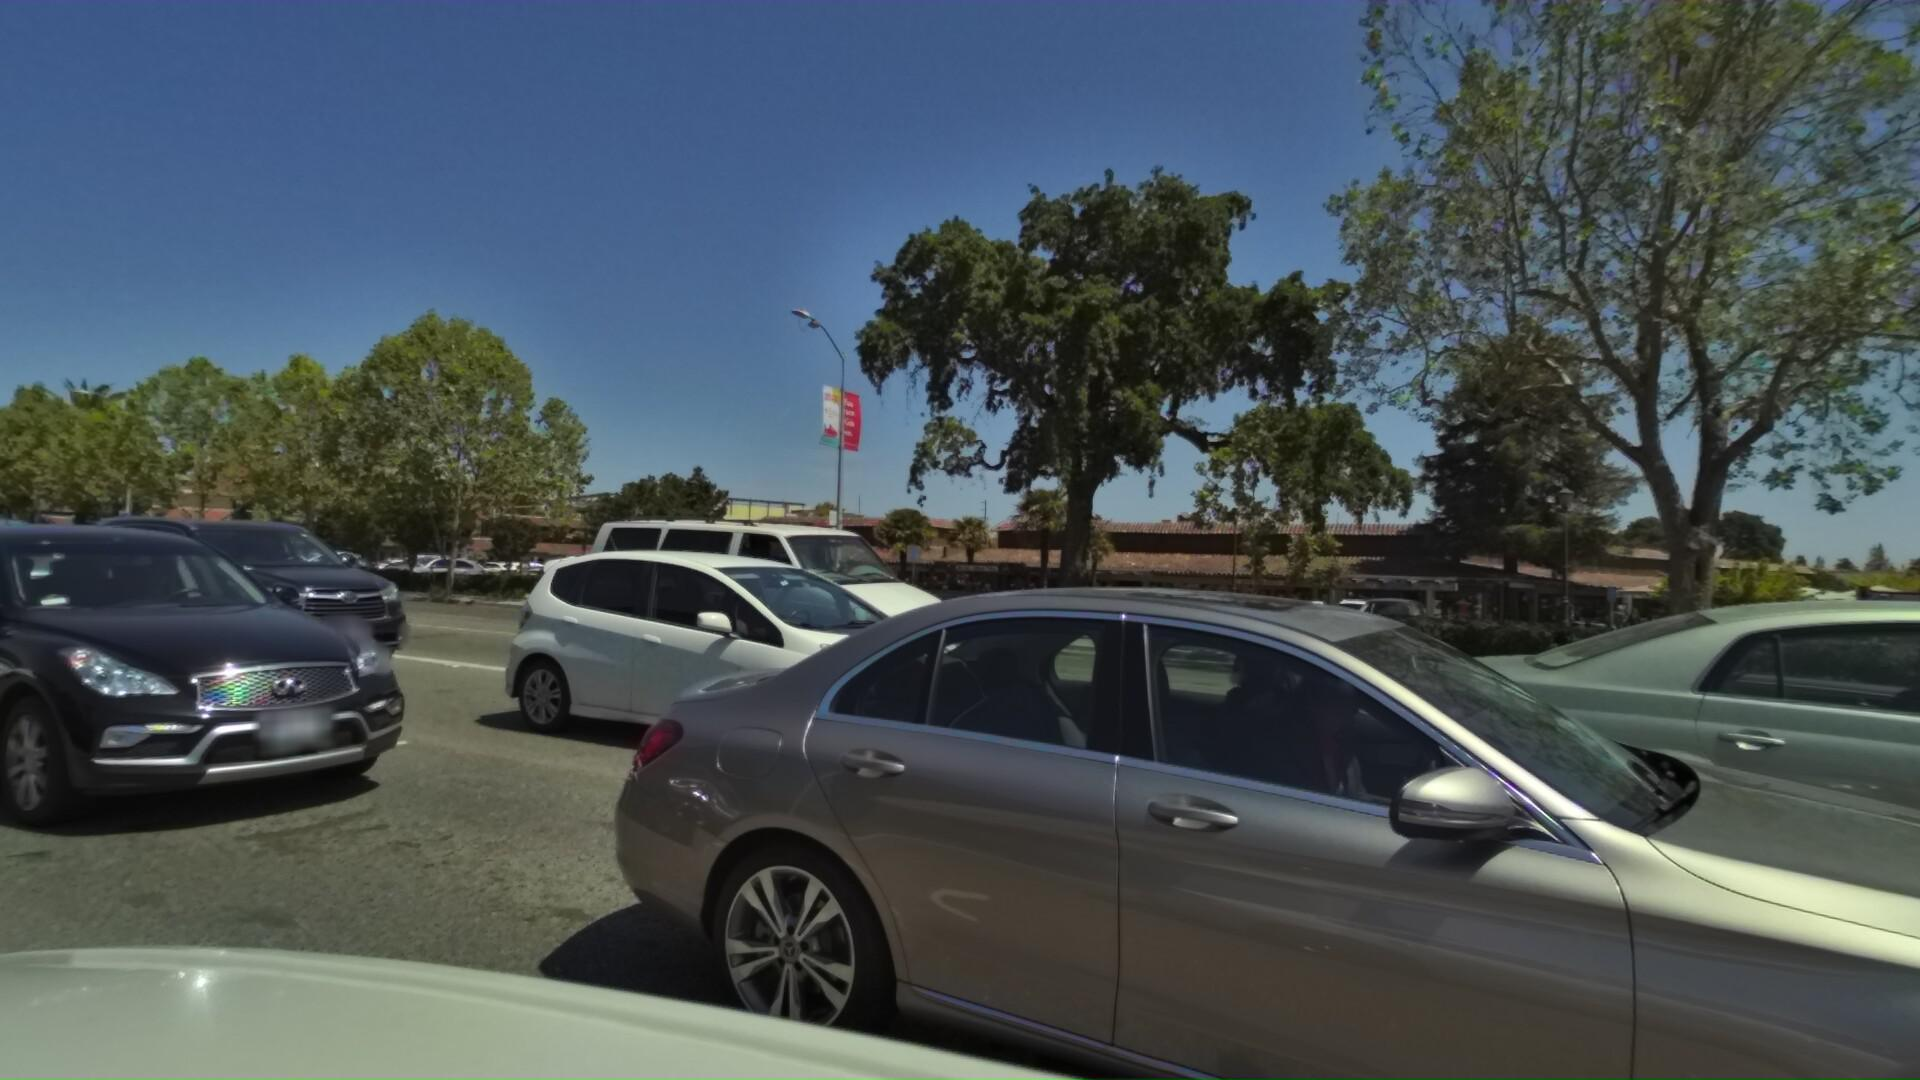car: (479, 537, 1920, 1080), (1431, 564, 1920, 1080), (0, 516, 465, 866), (459, 529, 1025, 793), (560, 505, 978, 702), (37, 508, 436, 688), (0, 512, 116, 640), (1698, 601, 1815, 669), (1244, 587, 1352, 644), (1333, 588, 1437, 645), (1081, 582, 1180, 633), (384, 553, 491, 587), (269, 545, 375, 578)
